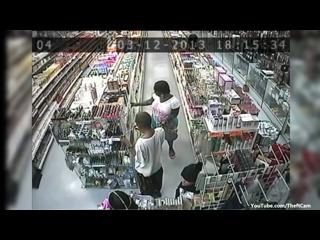Normal: (128, 112, 168, 198), (148, 80, 180, 160)
